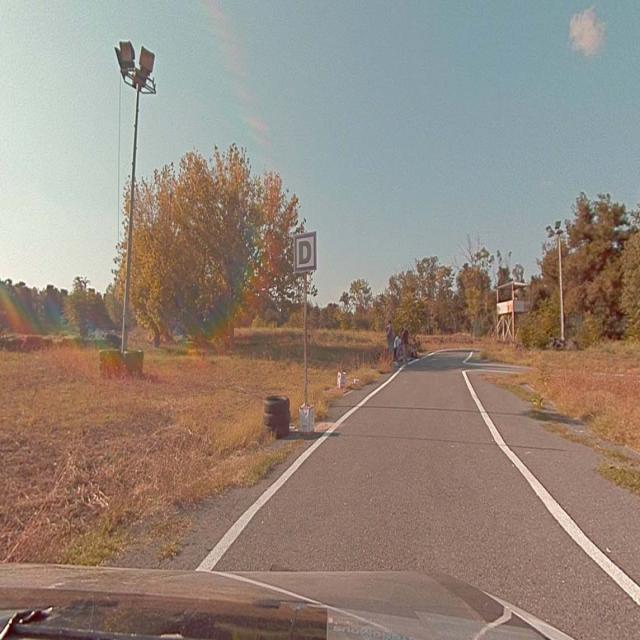durak: (293, 233, 316, 271)
